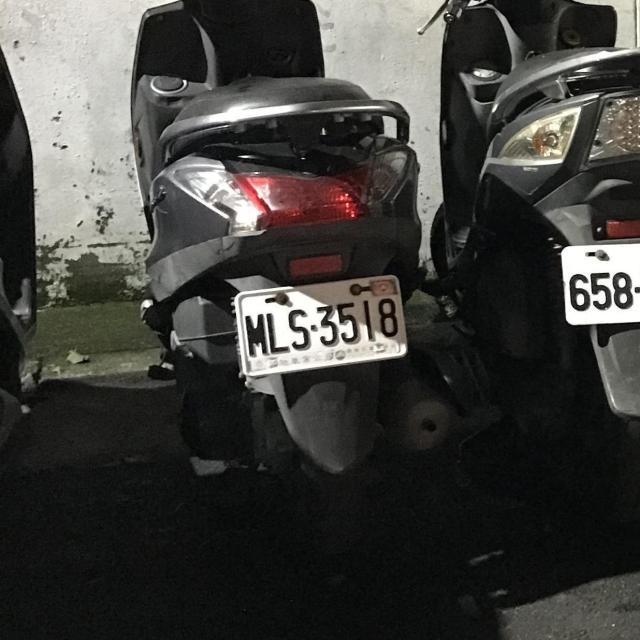W: (229, 267, 415, 383), (557, 232, 640, 332)
